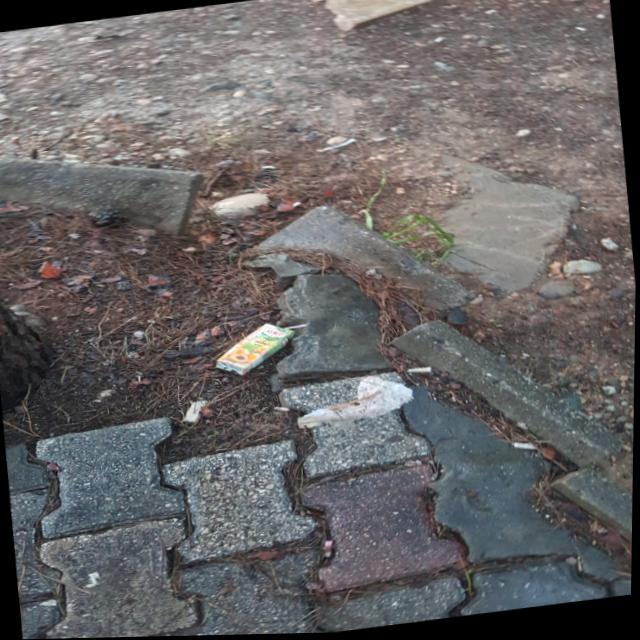Cardboard: (207, 313, 323, 384)
